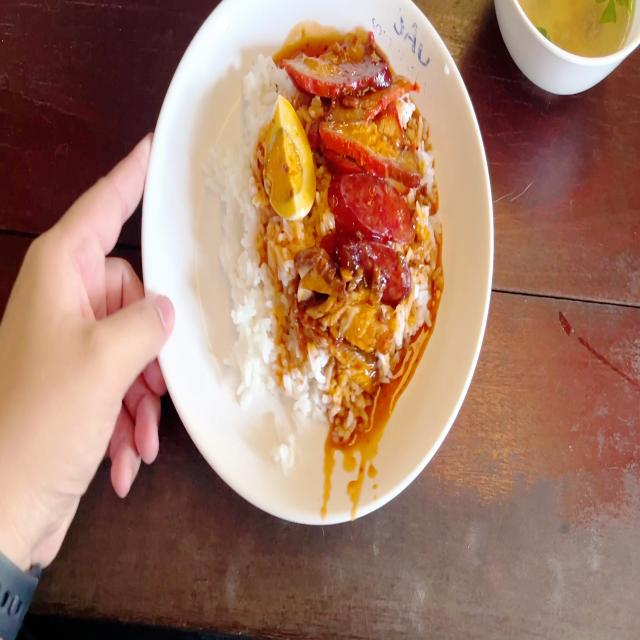boiled_egg: (269, 100, 312, 222)
chainese_sausage: (337, 178, 423, 287)
crispy_pork: (308, 292, 391, 386), (296, 235, 330, 302)
red_pork: (306, 36, 434, 162)
red_pork_and_crispy_pork: (219, 54, 436, 414)
rice: (226, 210, 299, 438), (225, 54, 265, 215)
